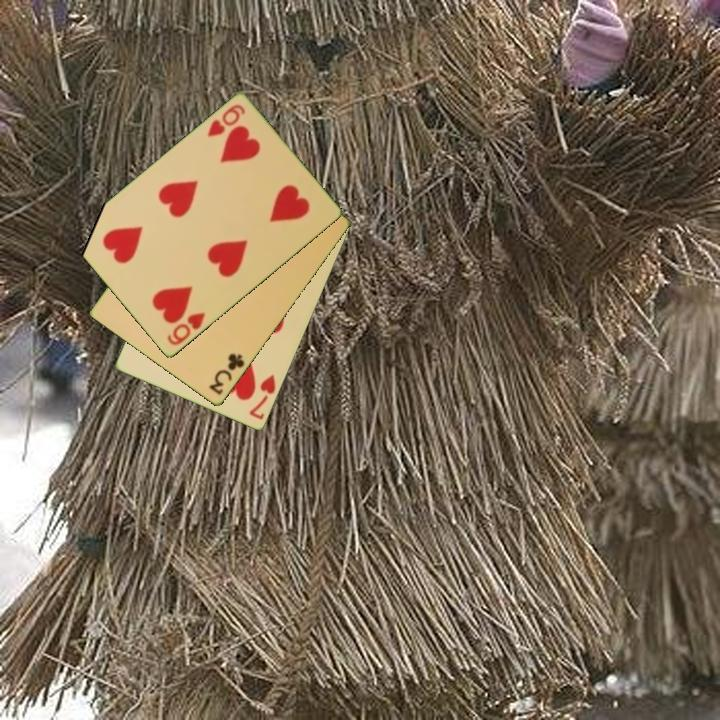3c: (205, 350, 248, 398)
6h: (163, 309, 208, 349), (204, 101, 248, 140)
7h: (246, 371, 279, 423)
